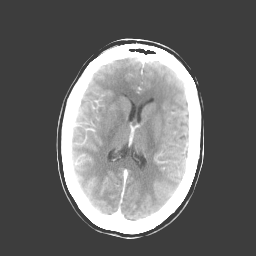ischemic: (97, 106, 115, 145)
